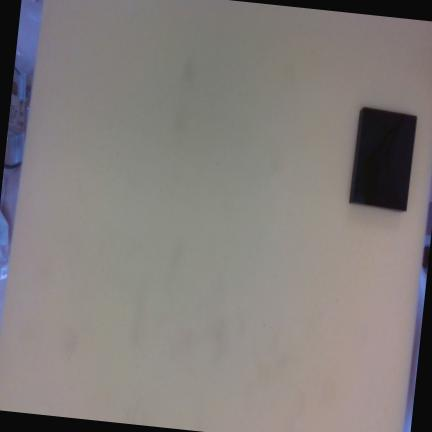tile: (352, 107, 418, 211)
